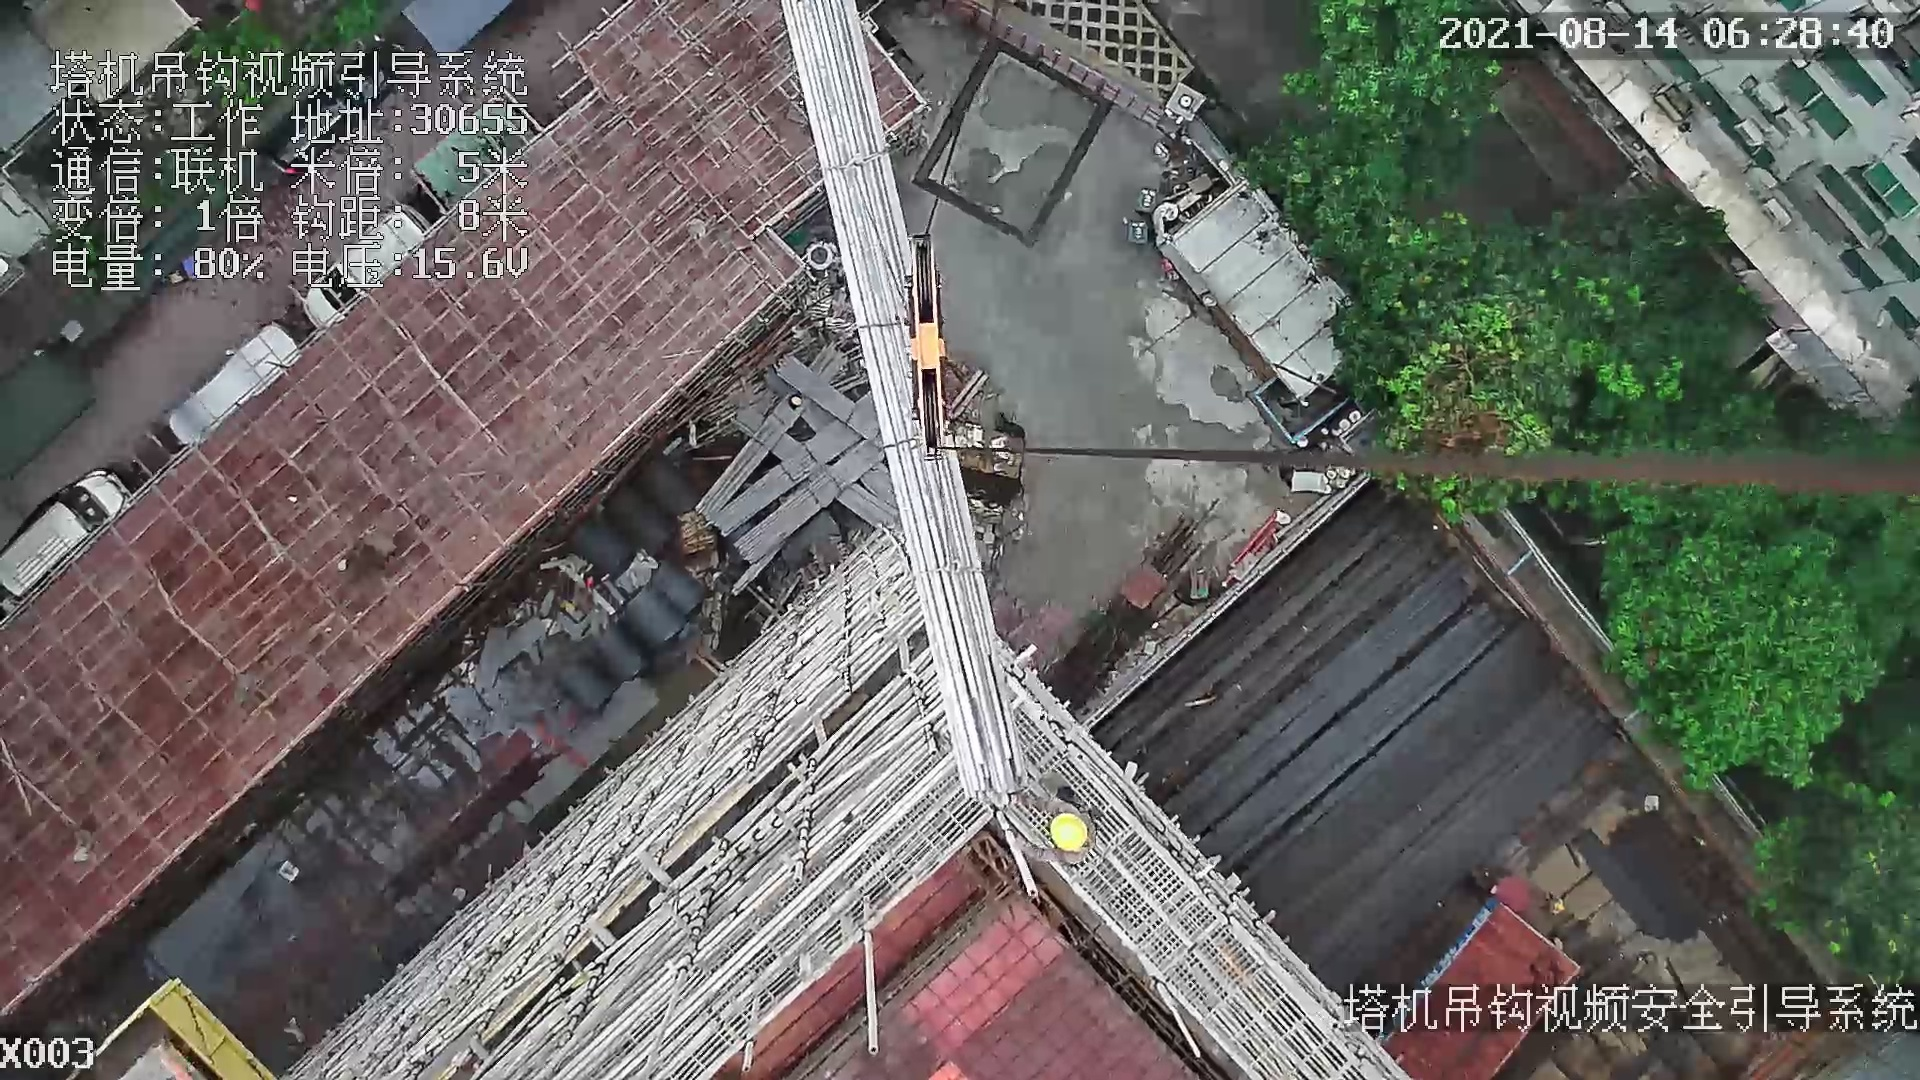helmet: (1042, 809, 1100, 858)
hook: (905, 234, 952, 459)
person: (1009, 777, 1097, 866)
